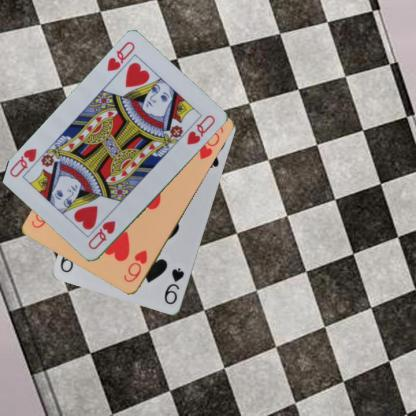6h: (121, 247, 149, 284)
9s: (162, 265, 185, 306)
Qh: (86, 218, 118, 252), (104, 39, 136, 73)
